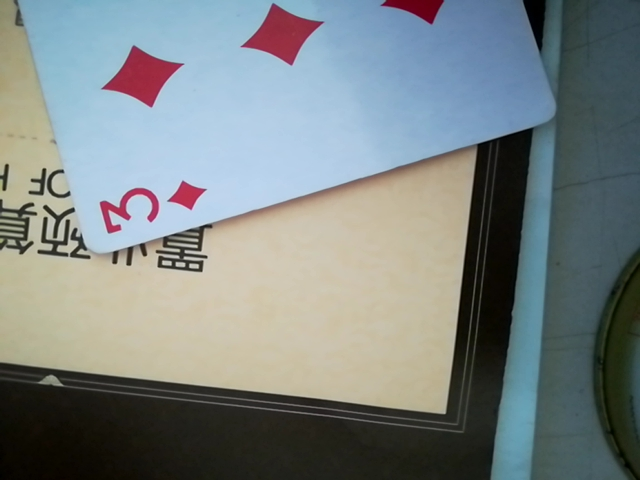fk 3: (15, 0, 581, 252)
